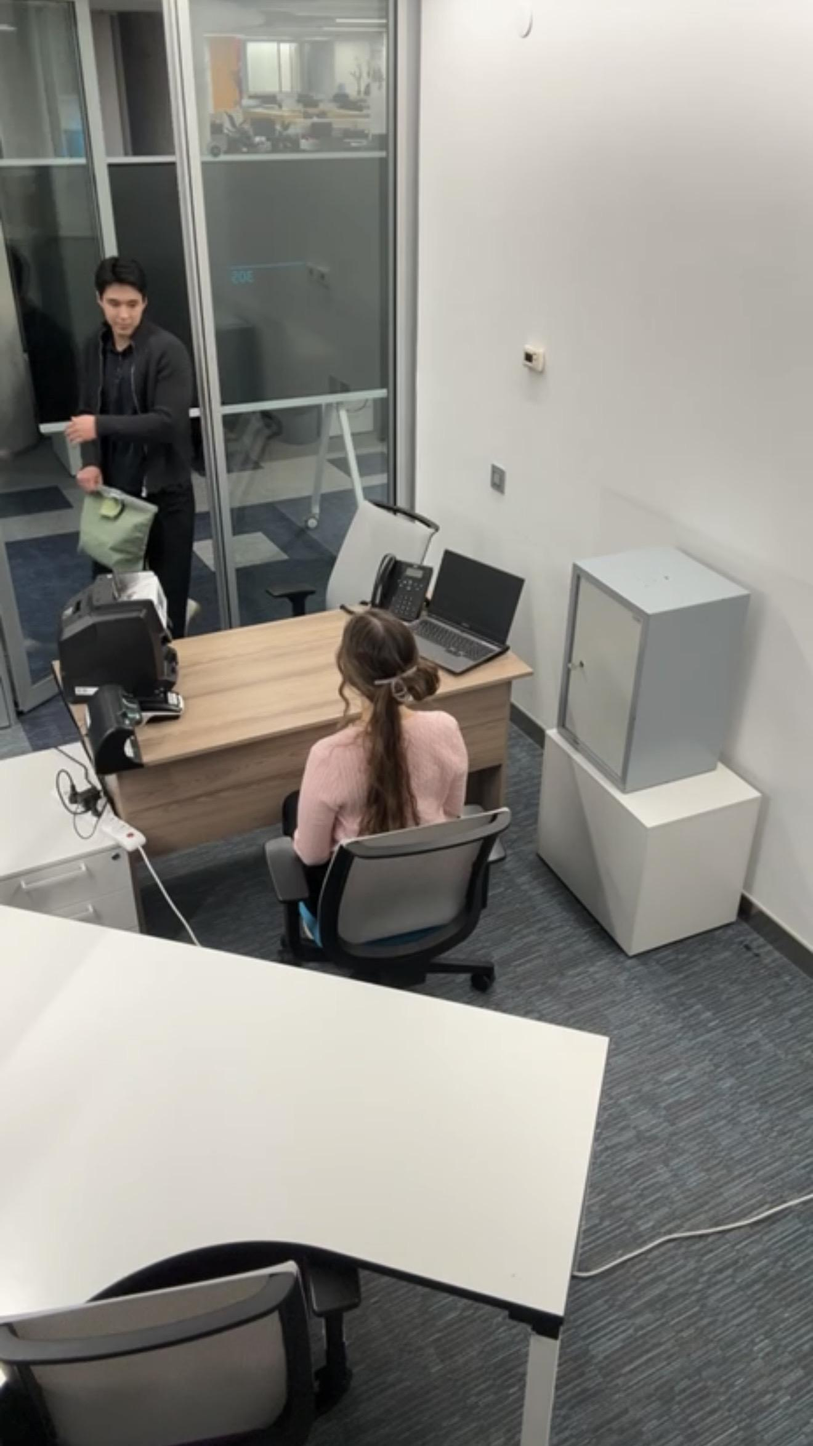cash-in-transit bag: (66, 472, 158, 575)
counter: (62, 583, 183, 696)
door_open: (29, 2, 205, 337)
key_in: (558, 649, 602, 686)
uv_lamp: (76, 680, 152, 772)
